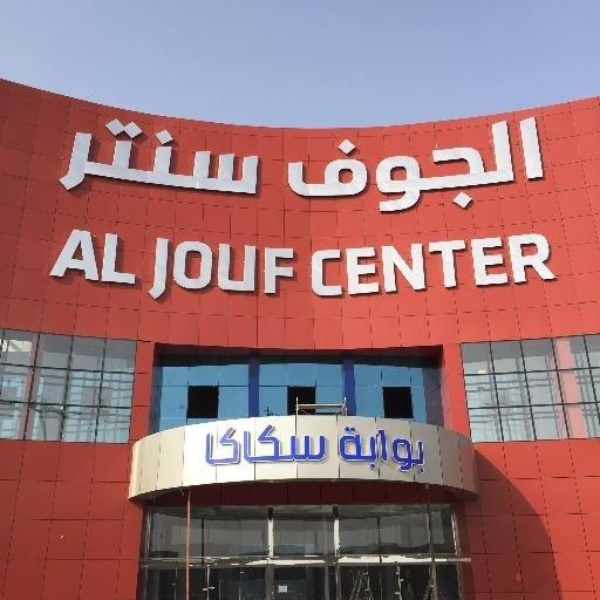text: (289, 115, 304, 217), (305, 115, 320, 217), (321, 115, 336, 217), (337, 115, 352, 217), (353, 115, 368, 217), (369, 115, 384, 217), (385, 115, 400, 217), (401, 115, 416, 217), (417, 115, 432, 217), (433, 115, 448, 217), (449, 115, 464, 217), (465, 115, 480, 217), (481, 115, 496, 217), (497, 115, 512, 217), (513, 115, 528, 217), (529, 115, 544, 217), (81, 111, 96, 207), (97, 111, 112, 207), (113, 111, 128, 207), (129, 111, 144, 207), (145, 111, 160, 207), (161, 111, 176, 207), (177, 111, 192, 207), (193, 111, 208, 207), (209, 111, 224, 207), (225, 111, 240, 207), (241, 111, 256, 207), (545, 115, 558, 217), (321, 231, 336, 303), (337, 231, 352, 303), (353, 231, 368, 303), (369, 231, 384, 303), (385, 231, 400, 303), (401, 231, 416, 303), (417, 231, 432, 303), (433, 231, 448, 303), (449, 231, 464, 303), (465, 231, 480, 303), (481, 231, 496, 303), (497, 231, 512, 303), (513, 231, 528, 303), (529, 231, 544, 303), (545, 231, 560, 303), (161, 236, 176, 302), (177, 236, 192, 302), (193, 236, 208, 302), (209, 236, 224, 302), (225, 236, 240, 302), (241, 236, 256, 302), (257, 236, 272, 302), (273, 236, 288, 302), (81, 227, 96, 288), (97, 227, 112, 288), (113, 227, 128, 288), (308, 231, 320, 303), (289, 236, 301, 302), (72, 111, 80, 207), (337, 425, 352, 476), (353, 425, 368, 476), (369, 425, 384, 476), (385, 425, 400, 476), (401, 425, 416, 476), (209, 424, 224, 469), (225, 424, 240, 469), (241, 424, 256, 469), (257, 424, 272, 469), (273, 424, 288, 469), (289, 424, 304, 469), (305, 424, 320, 469), (129, 227, 139, 288), (257, 111, 263, 207), (71, 227, 80, 288), (417, 425, 427, 476), (153, 236, 160, 302), (321, 424, 330, 469), (204, 424, 208, 469), (561, 231, 563, 303)
